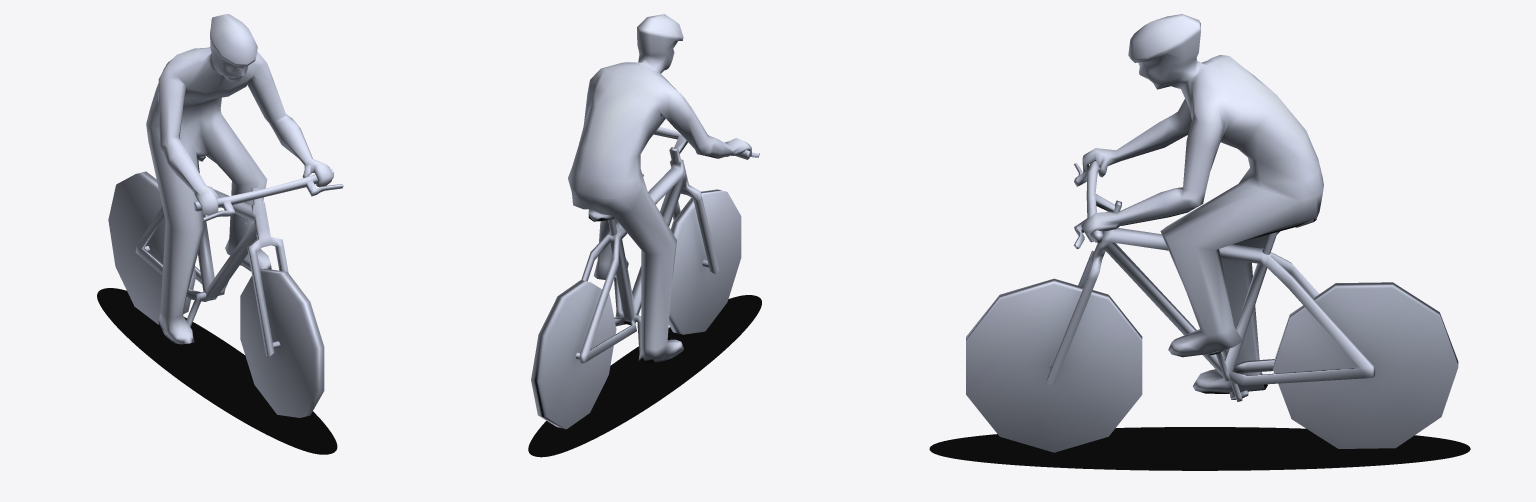
Rendered from zixingche.fbx.
3 renders of one model, left to right at view 1: azimuth 30°, elevation 25°; view 2: azimuth 150°, elevation 25°; view 3: azimuth 270°, elevation 25°, orthographic. The views are drawn at different scales.
Visible parts, largest first — view 1: model_bicycle_man, model_bicycle_shadow, model_bicycle_wheel_front, model_bicycle_main, model_bicycle_wheel_back; view 2: model_bicycle_man, model_bicycle_shadow, model_bicycle_wheel_back, model_bicycle_wheel_front, model_bicycle_main; view 3: model_bicycle_man, model_bicycle_wheel_front, model_bicycle_wheel_back, model_bicycle_shadow, model_bicycle_main.
Part boxes in pixels (box(x1,y1,x2,y2)): model_bicycle_man: box(146, 14, 333, 344); model_bicycle_shadow: box(97, 288, 337, 454); model_bicycle_wheel_front: box(240, 268, 324, 417); model_bicycle_main: box(135, 169, 343, 356); model_bicycle_wheel_back: box(108, 171, 196, 324); model_bicycle_man: box(568, 14, 751, 363); model_bicycle_shadow: box(528, 295, 761, 457); model_bicycle_wheel_back: box(531, 280, 616, 429); model_bicycle_wheel_front: box(669, 189, 741, 334); model_bicycle_main: box(575, 127, 759, 363); model_bicycle_man: box(1081, 14, 1323, 393); model_bicycle_wheel_front: box(966, 278, 1142, 452); model_bicycle_wheel_back: box(1273, 282, 1458, 448); model_bicycle_shadow: box(929, 427, 1470, 470); model_bicycle_main: box(1046, 161, 1375, 401).
Bounding box in the file's own units: 0.6426 × 1.56 × 2.12.
2 materials, 2 textured.
